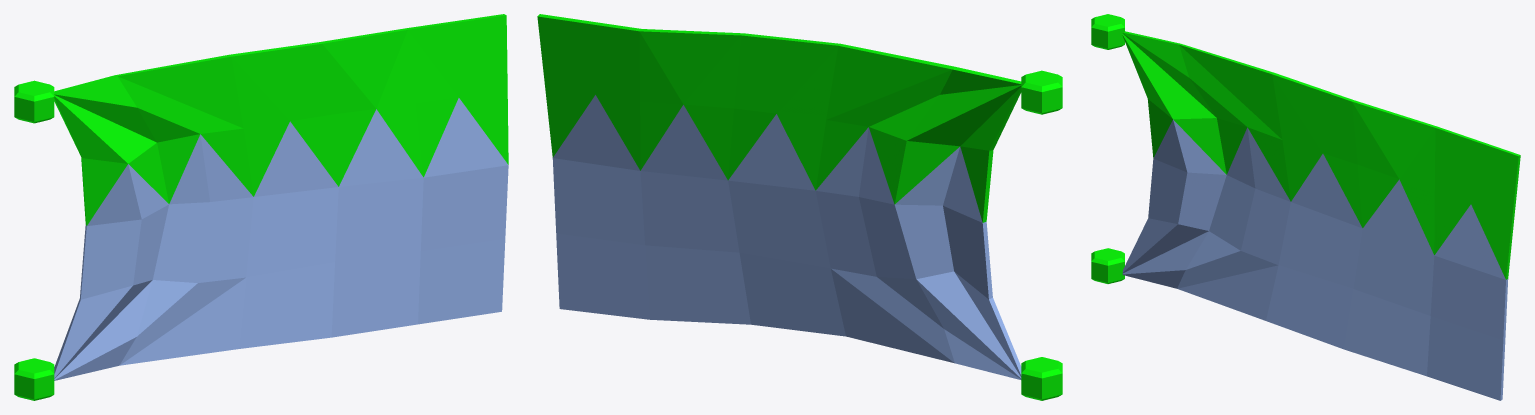
Rendered from SM_Flag_Regular_B_Fantasy.fbx.
The picture shows the model from 3 angles, left to right: view 1: azimuth 30°, elevation 25°; view 2: azimuth 150°, elevation 25°; view 3: azimuth 330°, elevation 25°; orthographic projection. The views are drawn at different scales.
Parts seen in each view (by area): view 1: flag-regular-b-fantasy; view 2: flag-regular-b-fantasy; view 3: flag-regular-b-fantasy.
Boxes of the visible parts, x1,y1,x2,y2 form: flag-regular-b-fantasy: (14,14,508,400); flag-regular-b-fantasy: (537,14,1062,400); flag-regular-b-fantasy: (1091,14,1520,400).
Size of the model in its own units: 1.12 by 0.7203 by 0.0777.
